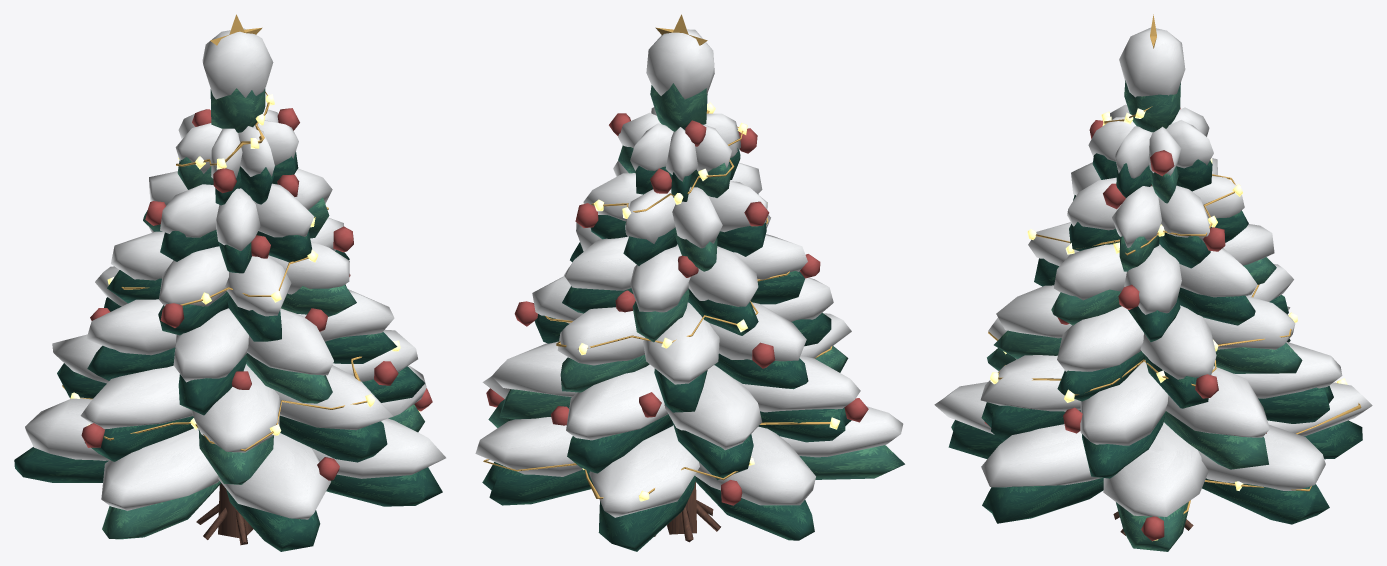
File: christmas_tree.glb
3 renders of one model, left to right at view 1: azimuth 30°, elevation 25°; view 2: azimuth 150°, elevation 25°; view 3: azimuth 270°, elevation 25°, orthographic.
Parts seen in each view (by area): view 1: christmas_tree; view 2: christmas_tree; view 3: christmas_tree.
Boxes of the visible parts, left/top/right/bottom form: christmas_tree: left=14, top=14, right=445, bottom=551; christmas_tree: left=475, top=14, right=904, bottom=551; christmas_tree: left=934, top=14, right=1372, bottom=551.
Size of the model in its own units: 4.67 by 6.2 by 4.81.
Materials: 3 (3 with a texture image).
